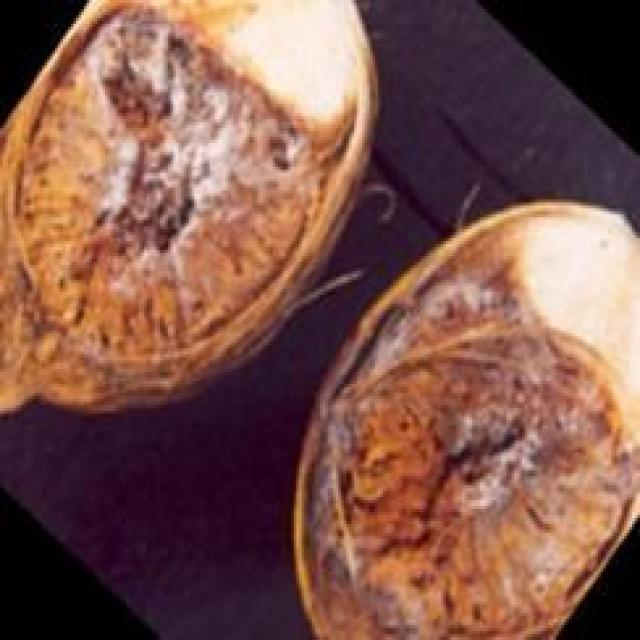damaged: (0, 0, 380, 420), (289, 199, 637, 637)
